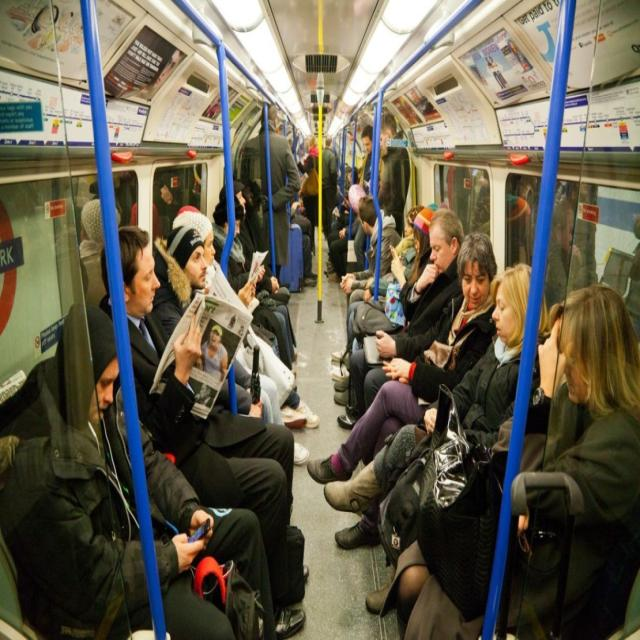body: (6, 301, 282, 640), (390, 277, 640, 639), (98, 217, 311, 639), (321, 258, 554, 622), (305, 230, 500, 552), (170, 200, 322, 437), (336, 208, 465, 432), (446, 168, 640, 313), (150, 224, 284, 426), (331, 201, 444, 409), (68, 163, 202, 301), (328, 205, 426, 383), (210, 196, 299, 382), (219, 180, 297, 348), (238, 100, 302, 287), (338, 195, 402, 365), (348, 123, 386, 272), (376, 110, 412, 239), (288, 135, 319, 246), (294, 132, 320, 243), (486, 36, 533, 92), (24, 0, 69, 54), (320, 132, 340, 243), (335, 139, 362, 189), (244, 175, 262, 228), (332, 189, 351, 236), (209, 90, 229, 119)
